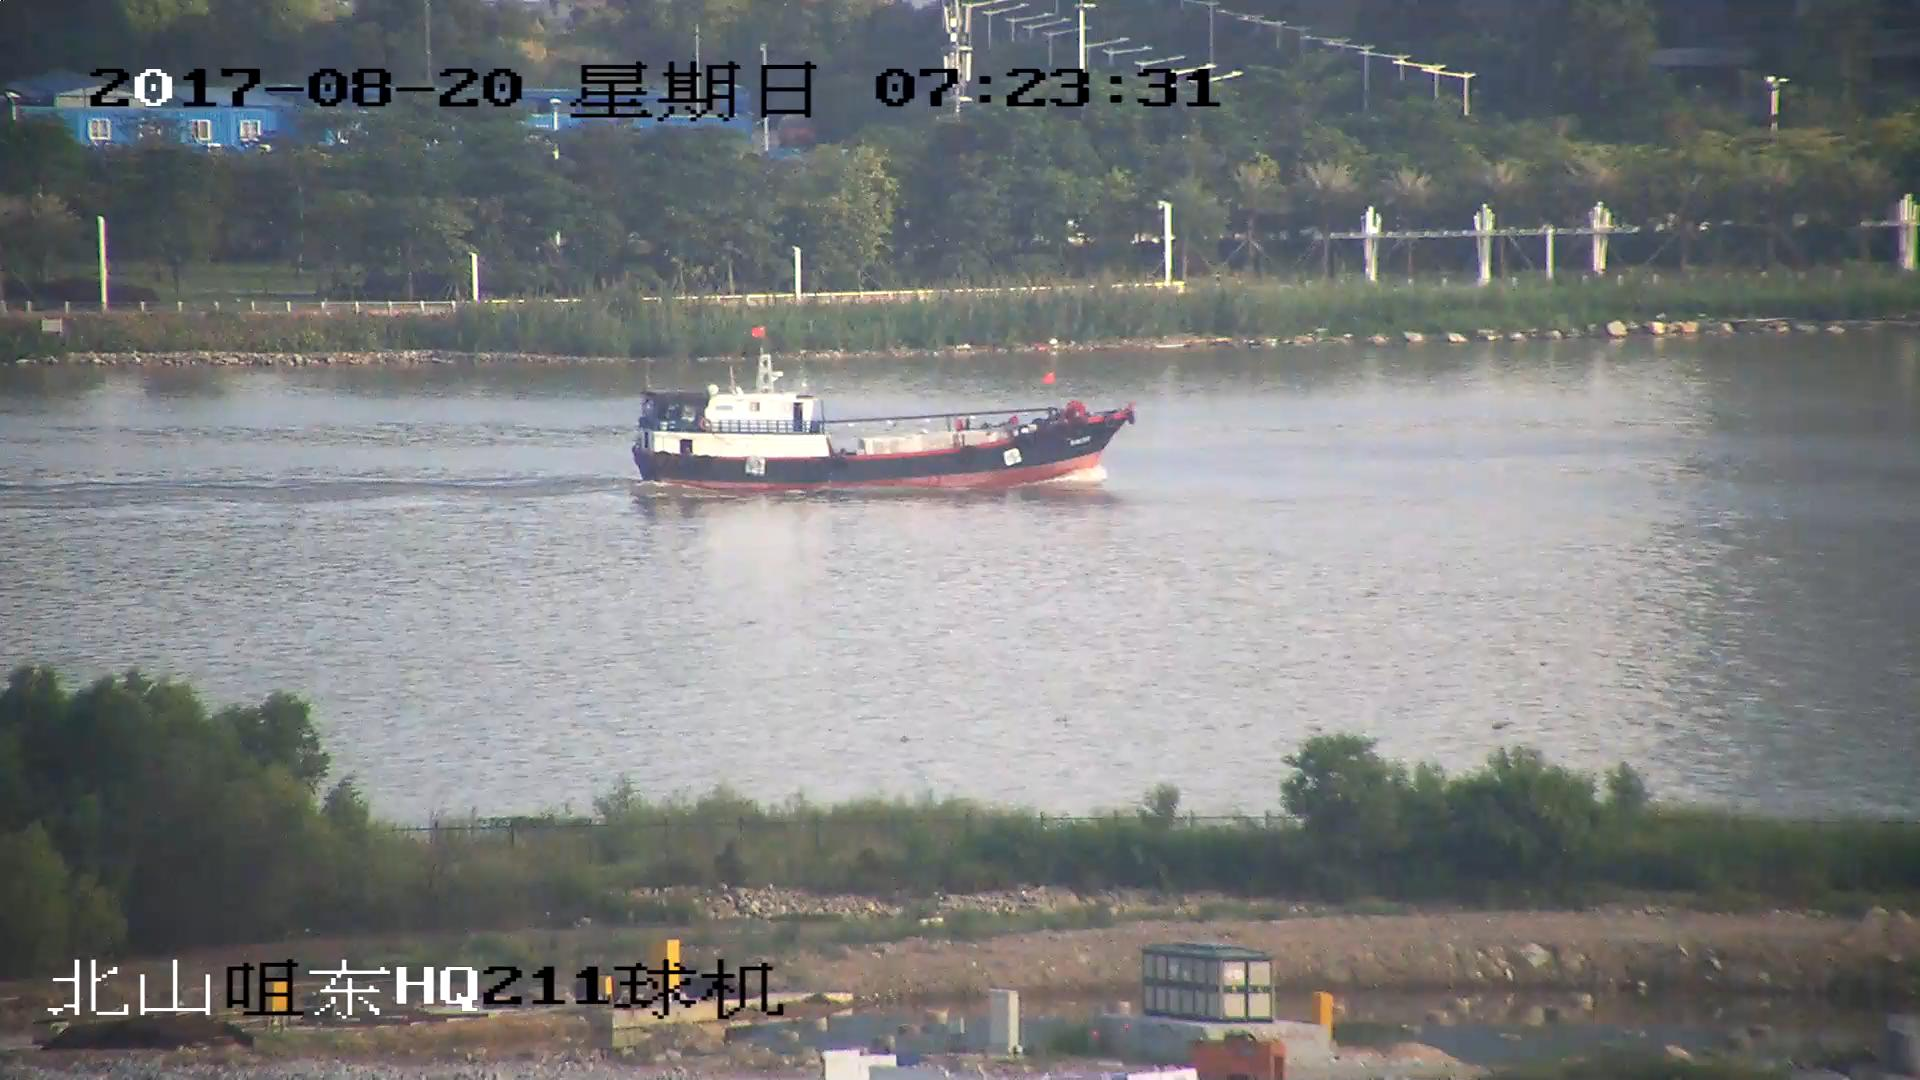fishing boat: (634, 353, 1140, 491)
